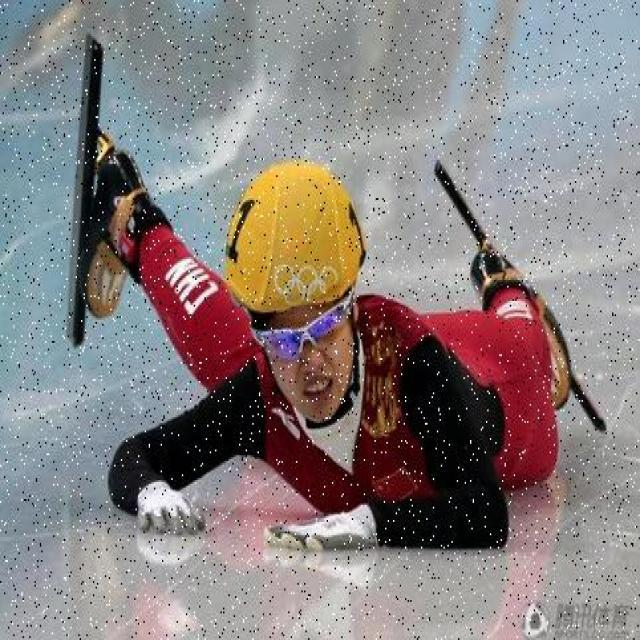fall: (85, 185, 542, 550)
